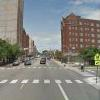Crosswalk: (1, 75, 91, 95)
